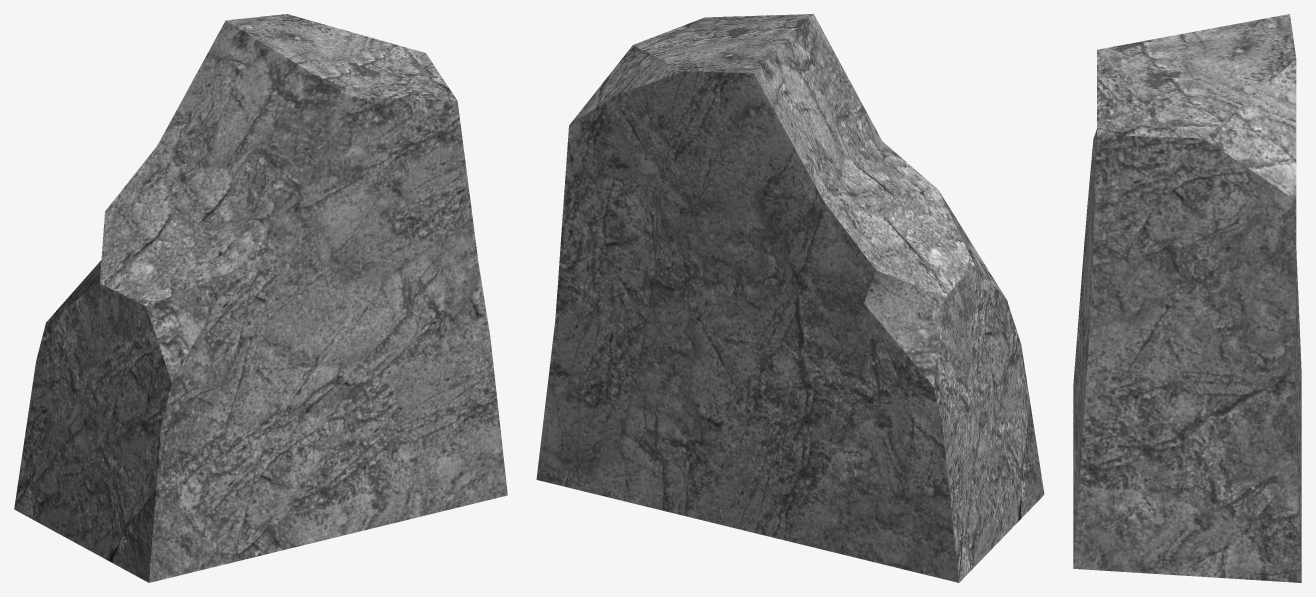
The model's file is materials_3_stone_3.fbx.
3 views of the same model, side by side, from view 1: azimuth 30°, elevation 25°; view 2: azimuth 150°, elevation 25°; view 3: azimuth 270°, elevation 25° (orthographic). The views are drawn at different scales.
Parts seen in each view (by area): view 1: materials_3_stone_3; view 2: materials_3_stone_3; view 3: materials_3_stone_3.
Boxes of the visible parts, <box> form: materials_3_stone_3: <box>14,14,507,582</box>; materials_3_stone_3: <box>536,14,1044,582</box>; materials_3_stone_3: <box>1073,14,1301,582</box>.
Bounding box in the file's own units: 77.61 × 79.65 × 35.56.
